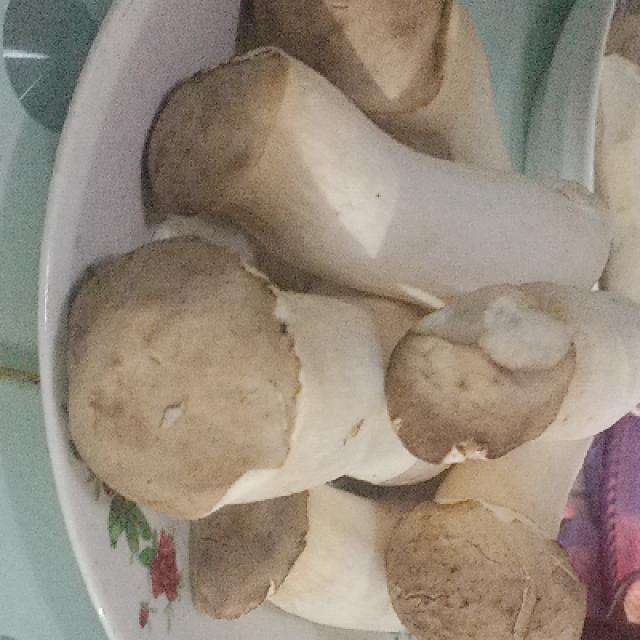Pleurotus eryngii: (73, 240, 640, 522), (153, 47, 606, 297), (190, 487, 589, 640)
